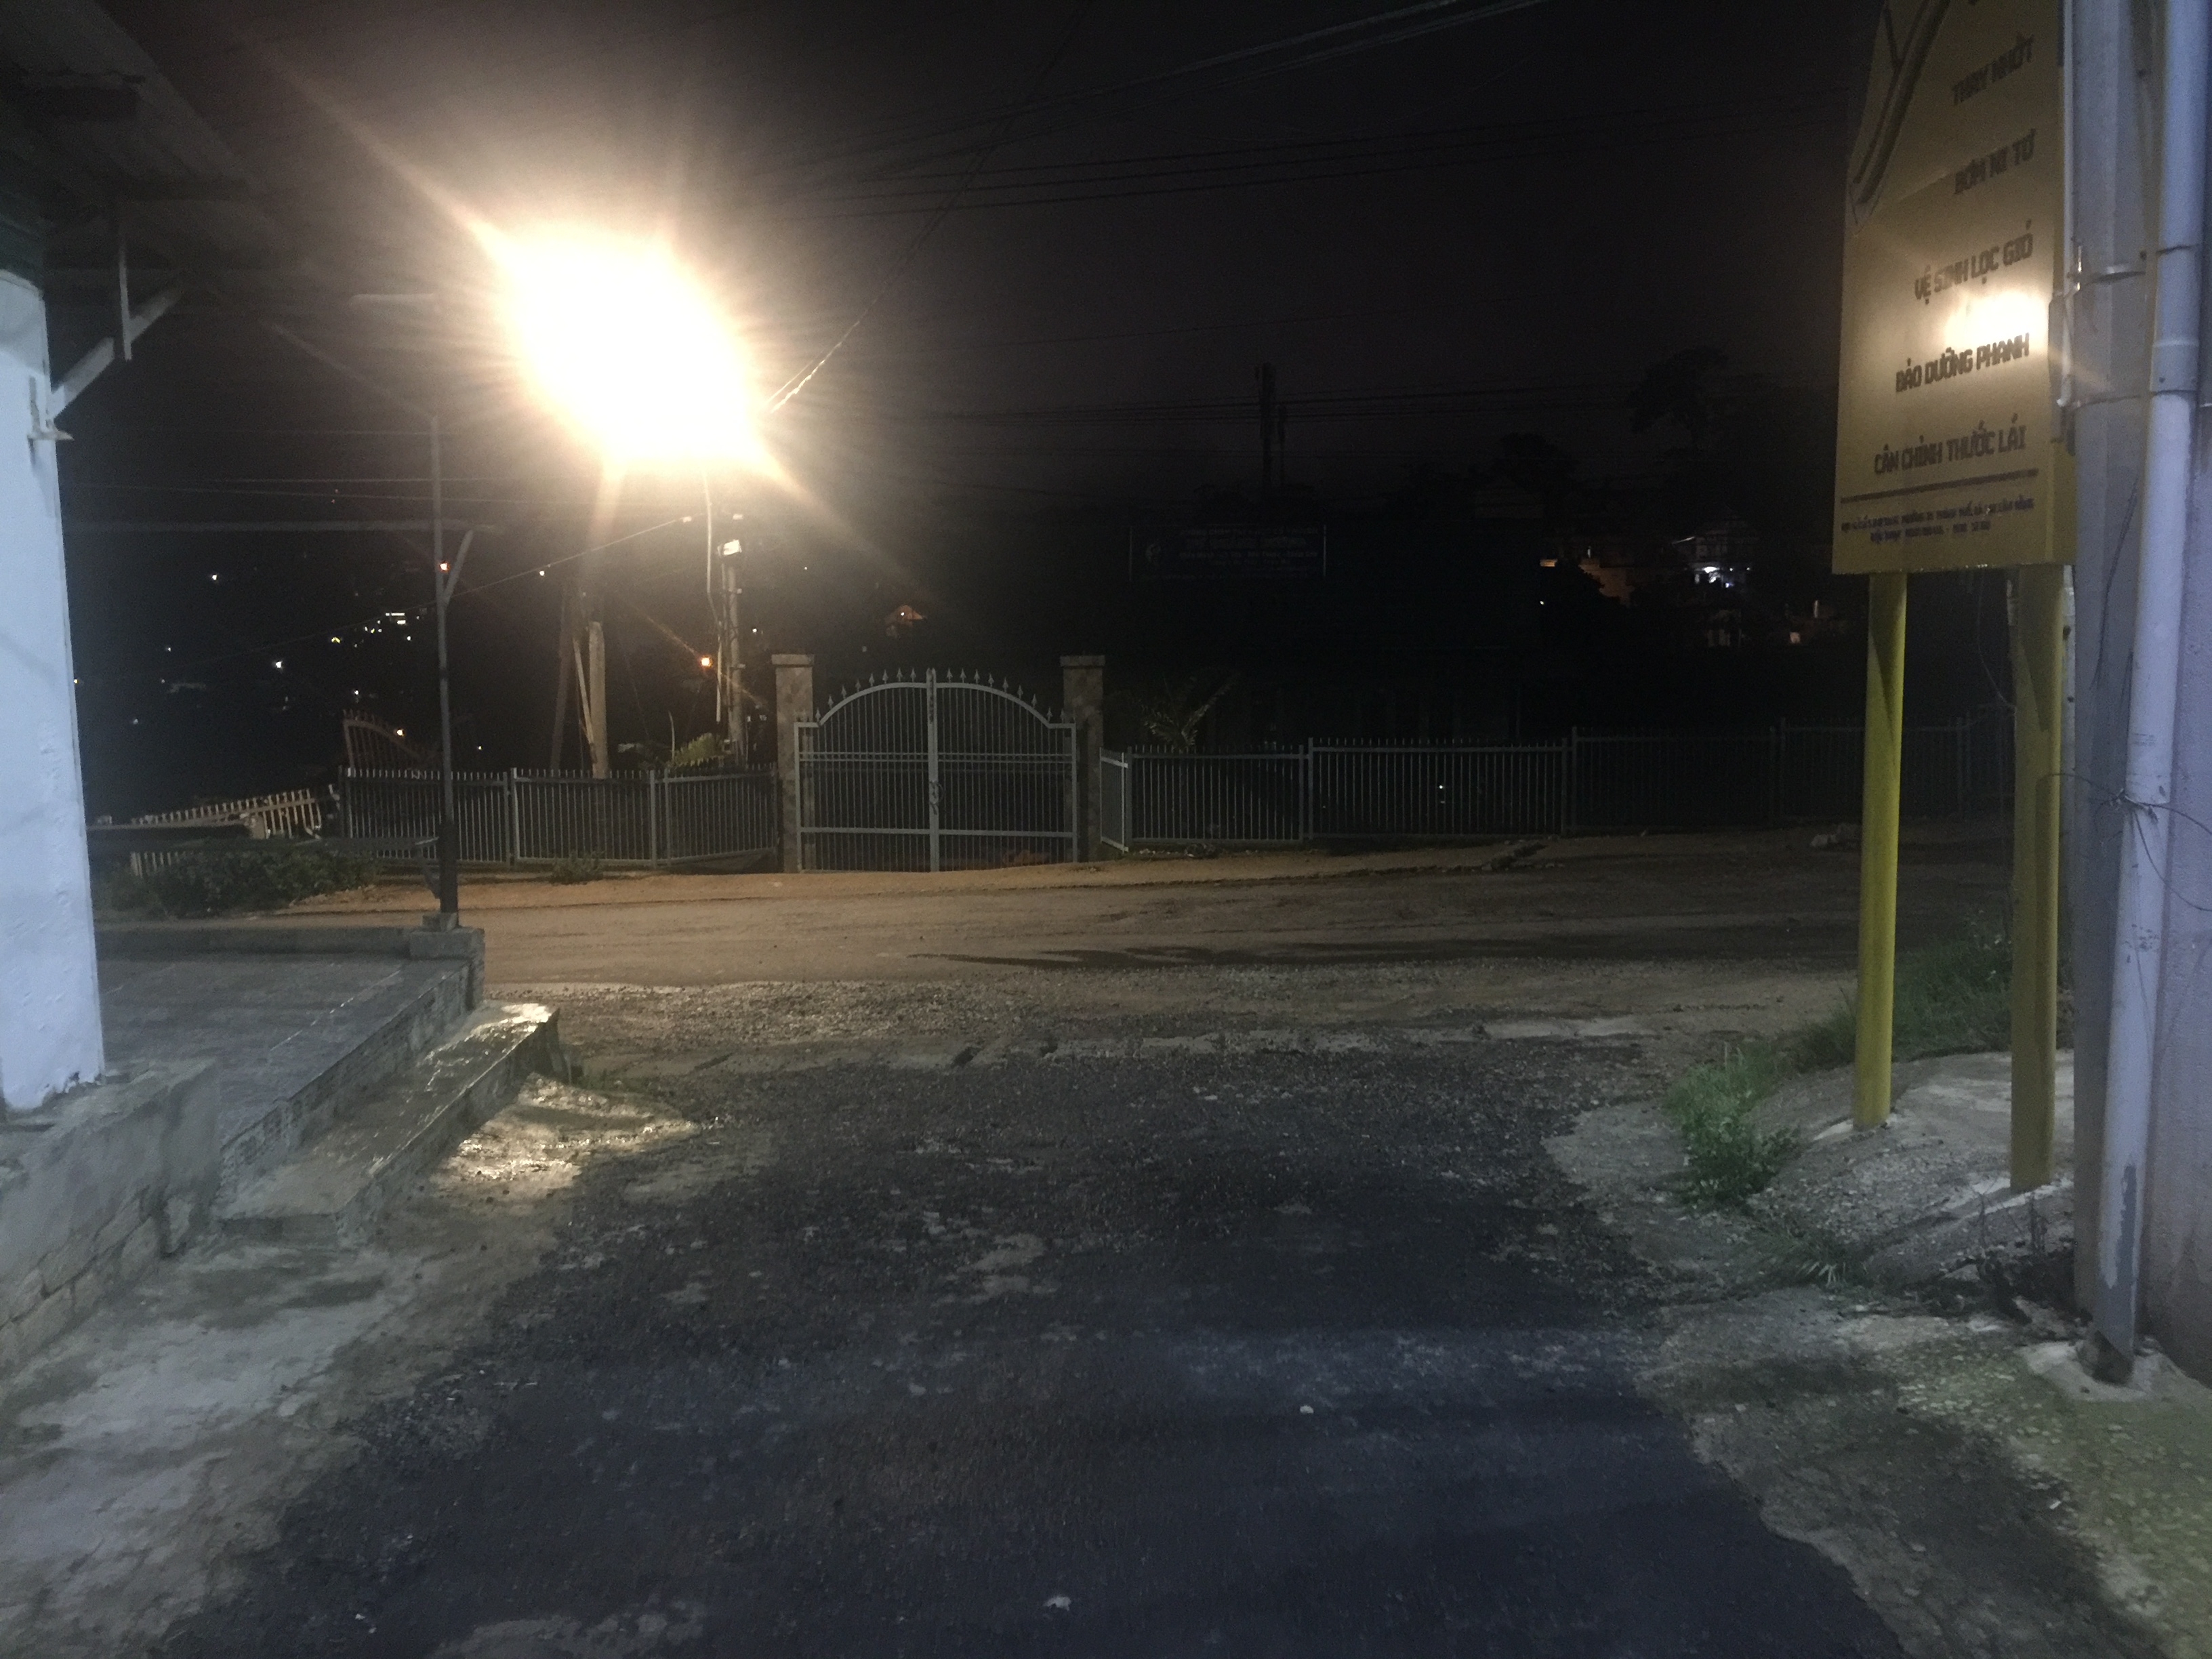hole: (897, 1134, 991, 1155)
